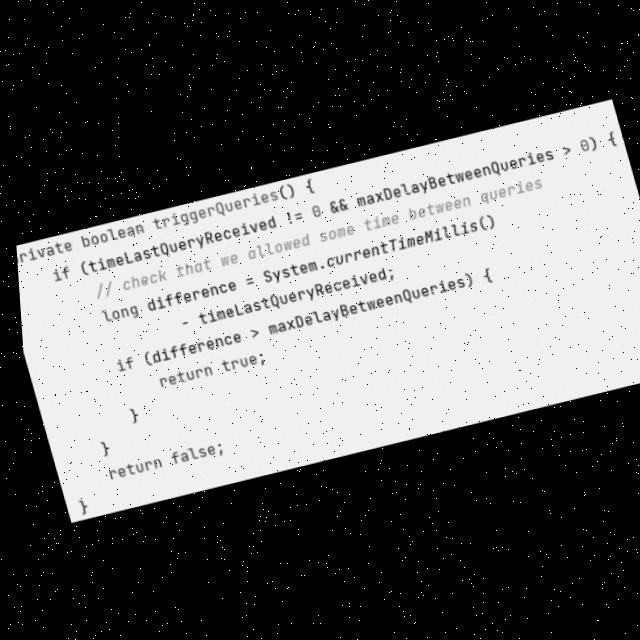code_screen: (16, 100, 640, 521)
